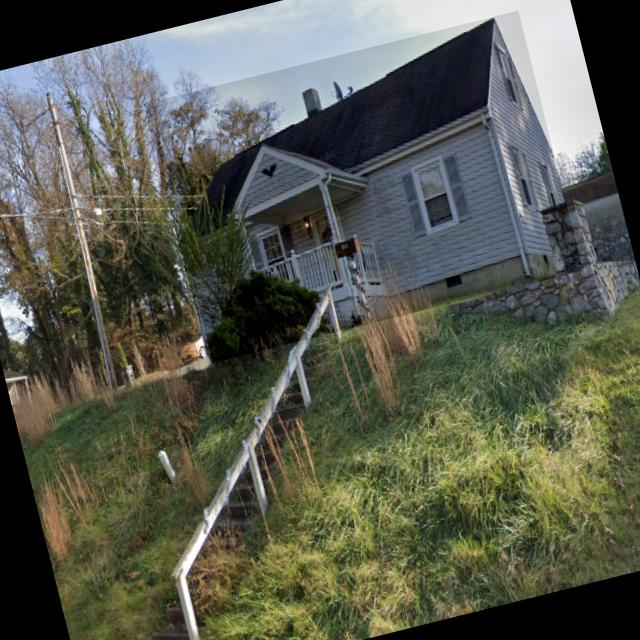House: (143, 10, 582, 363)
